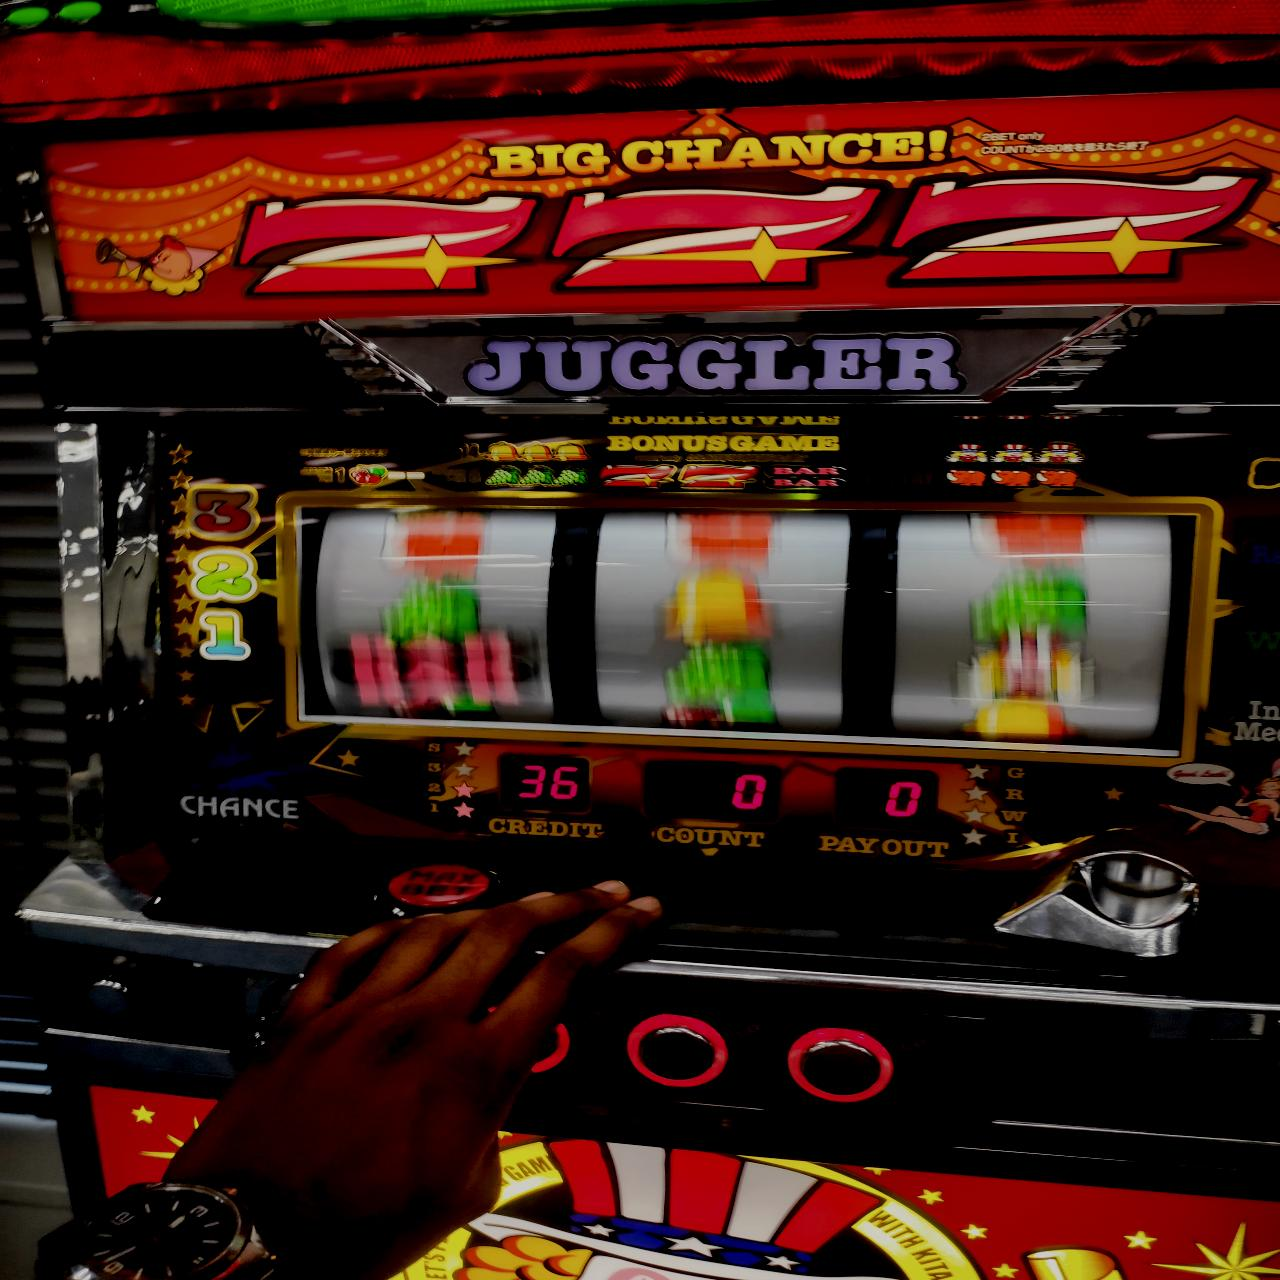rhino: (309, 493, 1192, 755)
